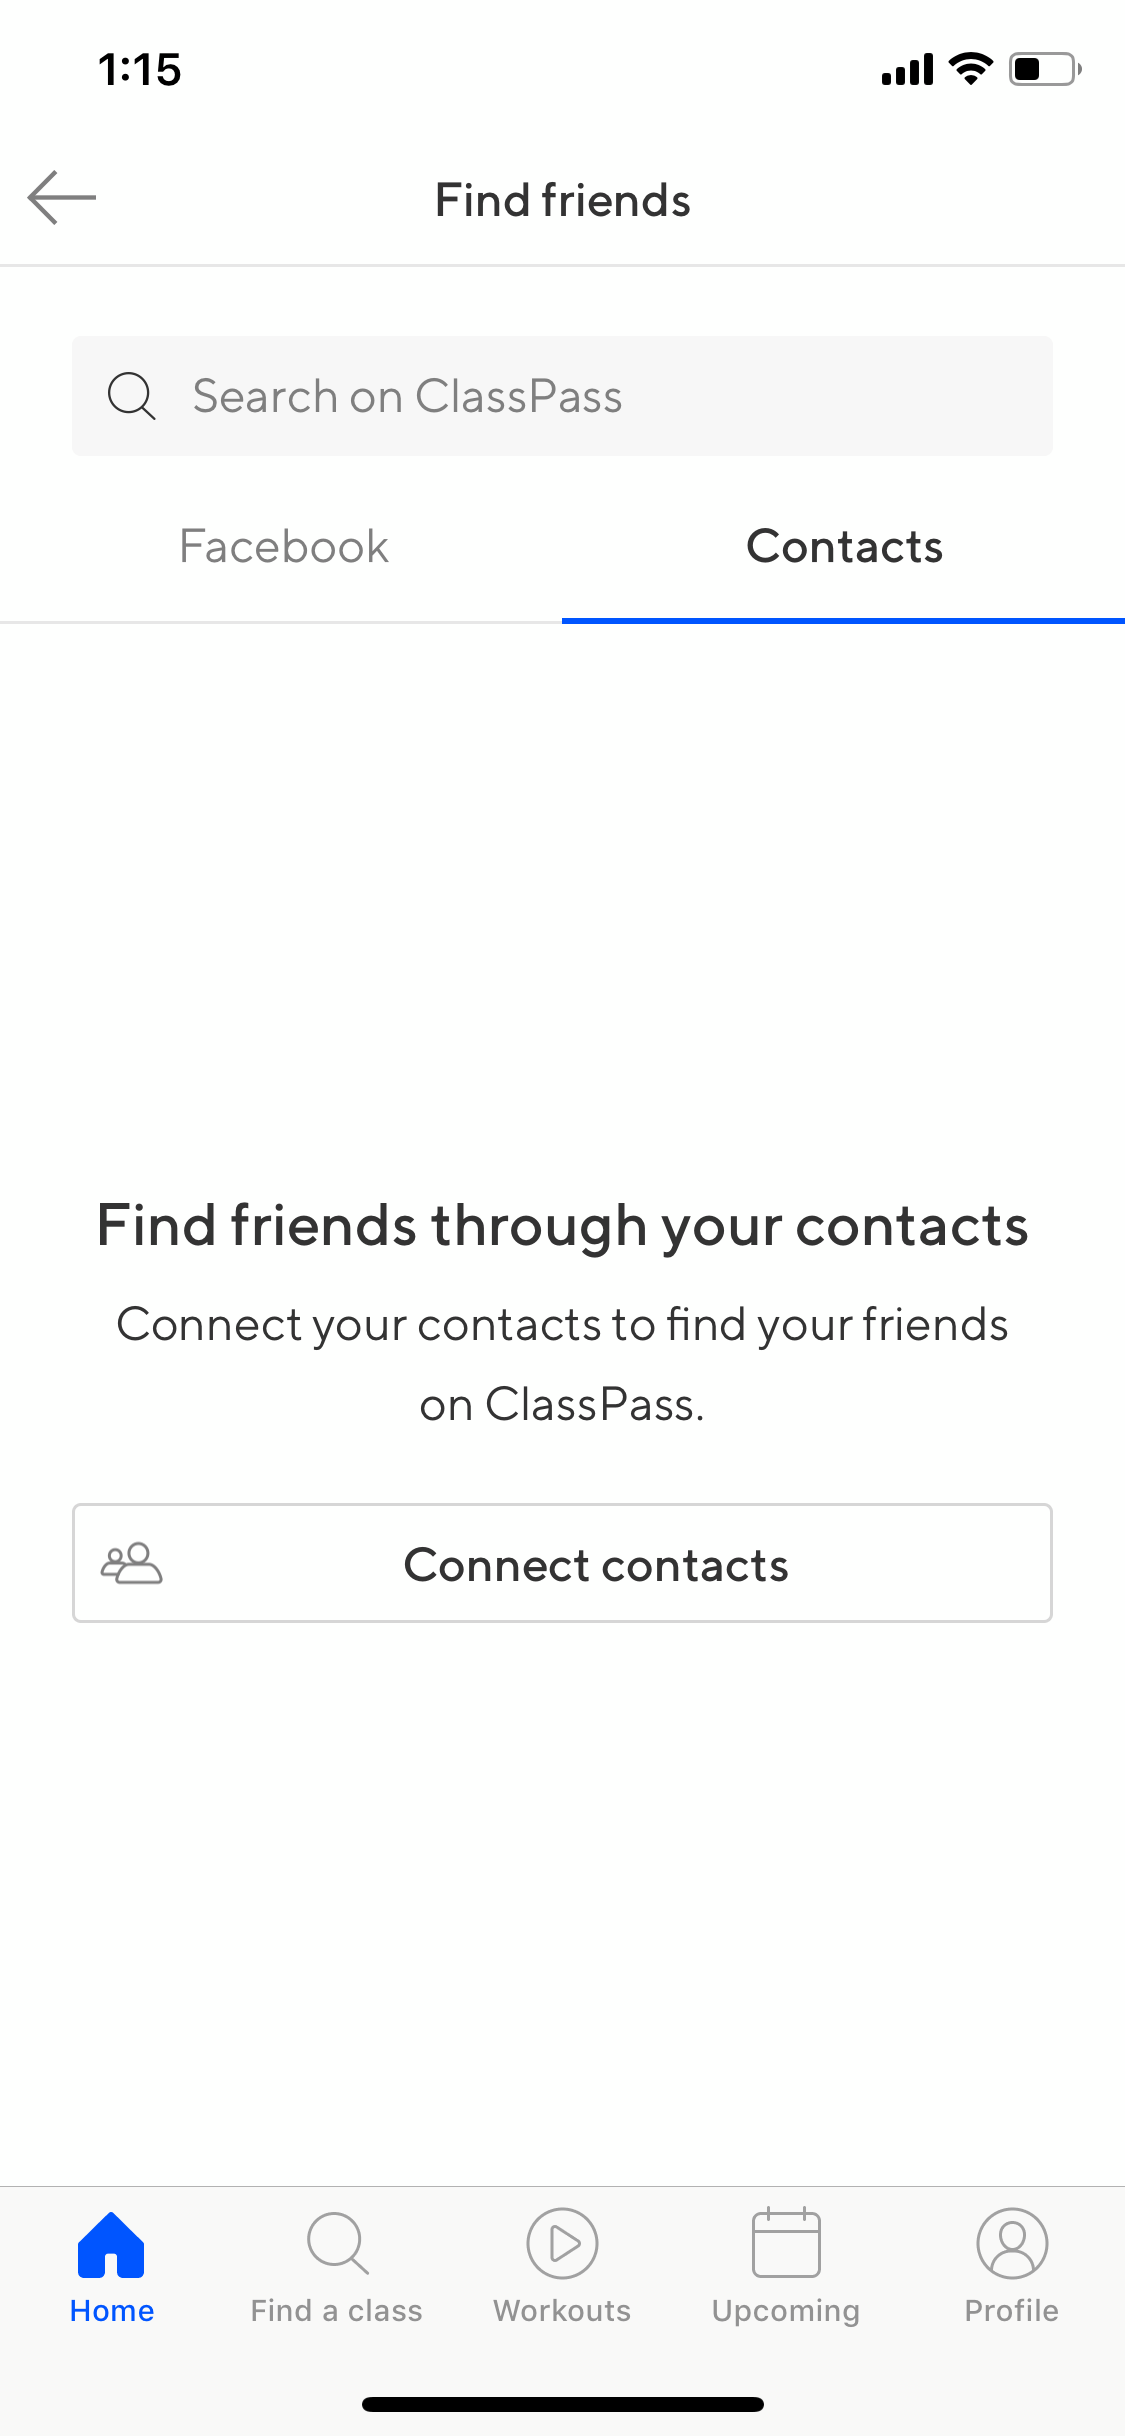Buttons: (56, 1484, 1068, 1637), (2, 132, 120, 255)
